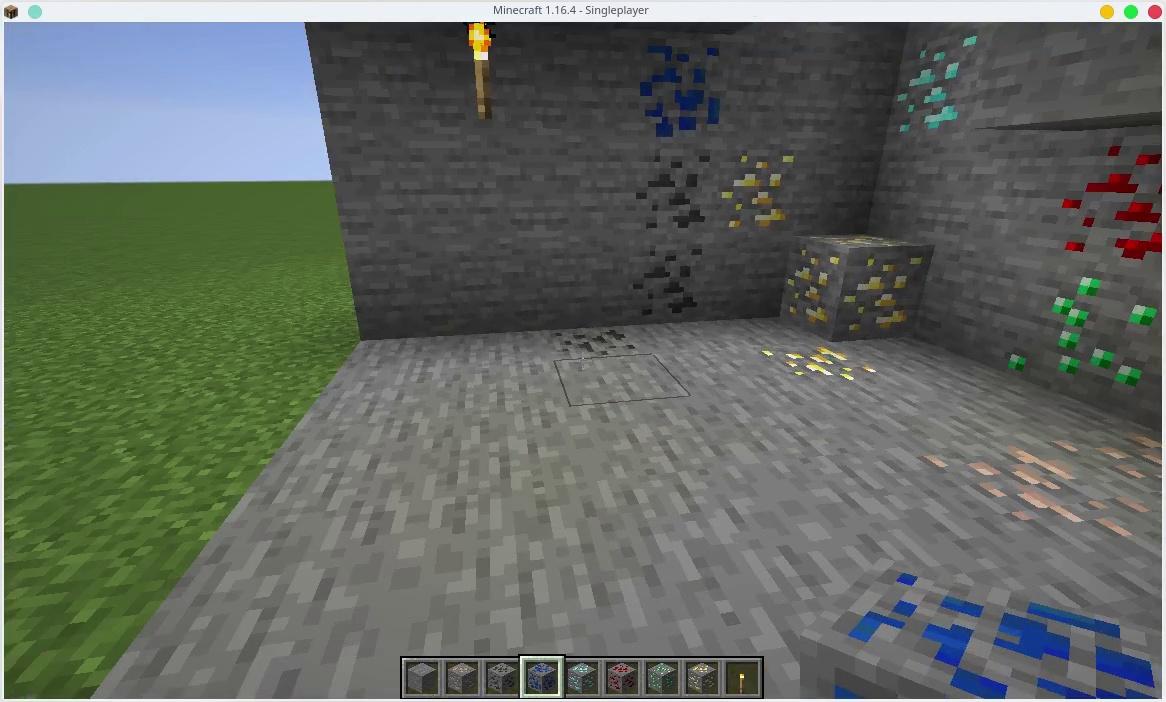gold: (784, 236, 927, 330), (772, 331, 875, 398), (713, 150, 797, 226), (687, 663, 718, 694)
